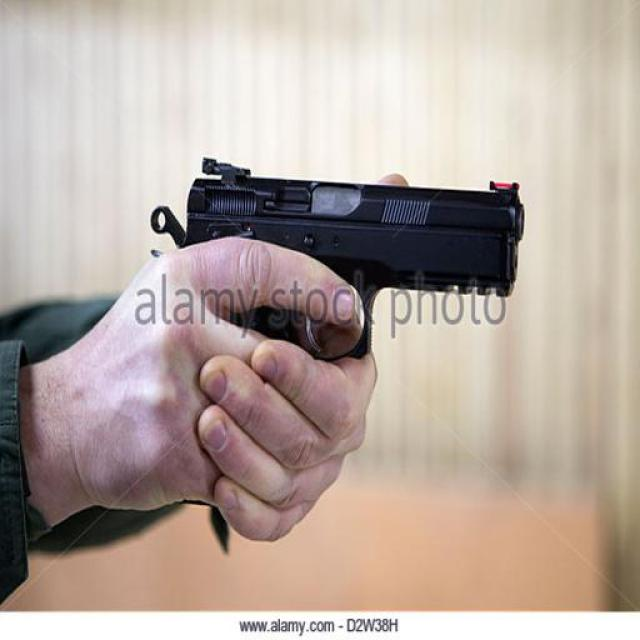pistol: (160, 174, 530, 508)
